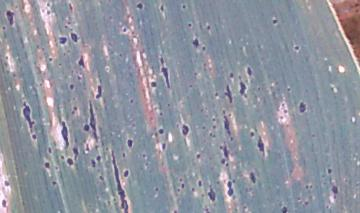tarspot: (109, 147, 129, 213), (87, 100, 100, 145), (20, 99, 37, 132), (59, 119, 70, 149), (160, 64, 172, 89), (221, 83, 234, 104), (255, 137, 269, 156), (206, 183, 218, 204), (236, 80, 249, 98), (222, 116, 233, 137), (294, 100, 309, 113), (330, 183, 340, 202), (4, 8, 15, 25), (93, 84, 104, 100), (68, 30, 80, 44), (76, 55, 87, 70), (247, 169, 258, 184), (180, 122, 191, 137), (124, 137, 136, 150), (219, 144, 231, 157), (56, 34, 68, 46), (189, 36, 201, 48), (42, 159, 53, 172), (134, 1, 147, 12), (226, 179, 233, 199), (157, 1, 166, 16), (147, 79, 159, 90), (71, 145, 81, 158), (122, 166, 131, 180), (45, 54, 56, 65), (1, 197, 9, 212), (269, 16, 281, 26), (292, 42, 302, 54), (277, 204, 290, 213), (245, 65, 254, 78), (29, 131, 40, 141), (325, 165, 335, 176), (227, 70, 237, 81), (159, 140, 169, 151), (66, 156, 75, 168), (45, 144, 54, 156), (127, 95, 136, 107), (157, 54, 166, 65), (179, 181, 188, 192), (2, 52, 11, 63), (50, 178, 58, 190), (97, 172, 105, 184), (2, 179, 12, 188), (247, 129, 257, 138), (156, 127, 166, 136), (195, 178, 205, 187), (284, 85, 294, 94), (209, 115, 219, 124), (82, 122, 90, 133), (68, 82, 76, 93), (152, 184, 160, 195), (209, 123, 220, 131), (303, 181, 311, 192), (180, 2, 189, 11), (59, 153, 68, 162), (219, 157, 227, 167), (194, 151, 202, 161), (186, 20, 194, 30), (95, 152, 103, 162), (67, 3, 75, 13), (157, 109, 165, 119), (214, 90, 221, 101), (73, 103, 79, 115), (219, 108, 228, 116), (205, 22, 211, 33), (121, 25, 127, 36), (203, 205, 211, 213), (140, 152, 148, 160), (90, 158, 95, 170), (282, 108, 290, 115), (302, 200, 311, 206), (172, 207, 180, 213)
